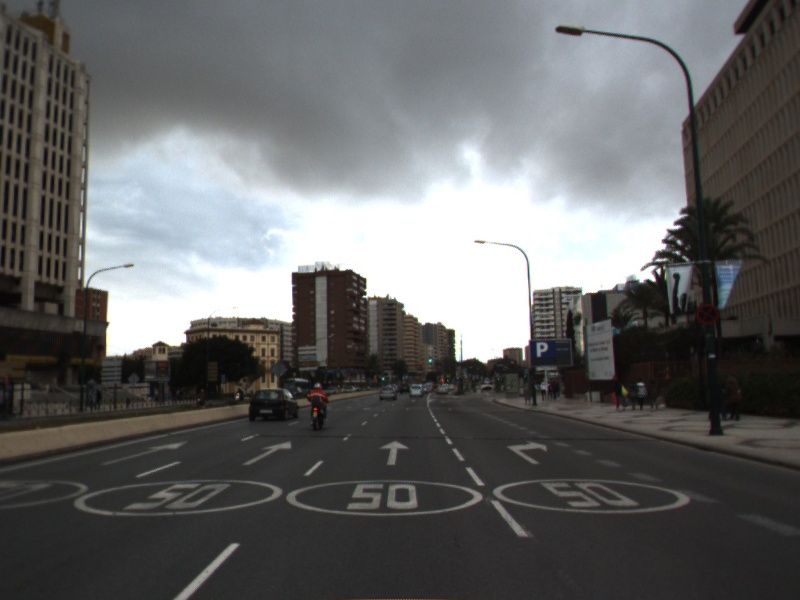RIGHT: (505, 438, 549, 466)
STRAIGHT: (96, 439, 191, 467), (240, 439, 293, 467), (377, 438, 411, 467)
